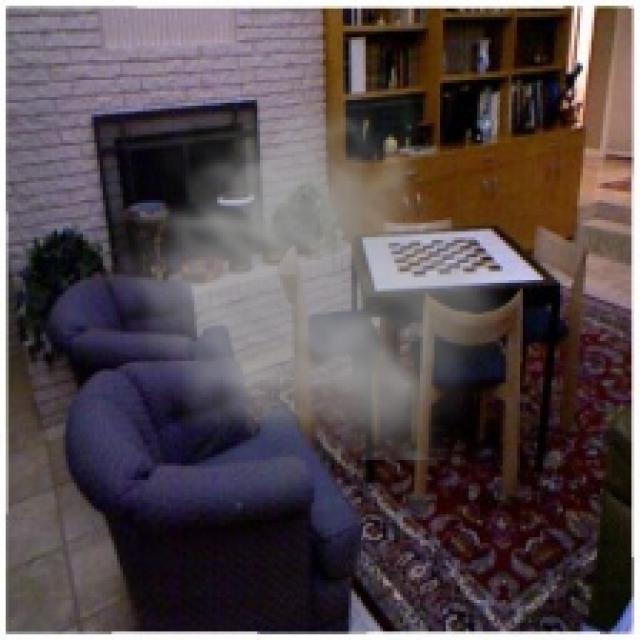smoke: (103, 66, 523, 460)
